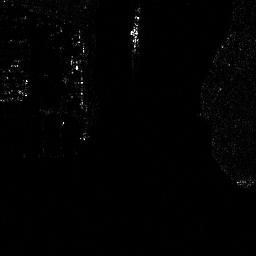ship: (129, 15, 141, 52)
